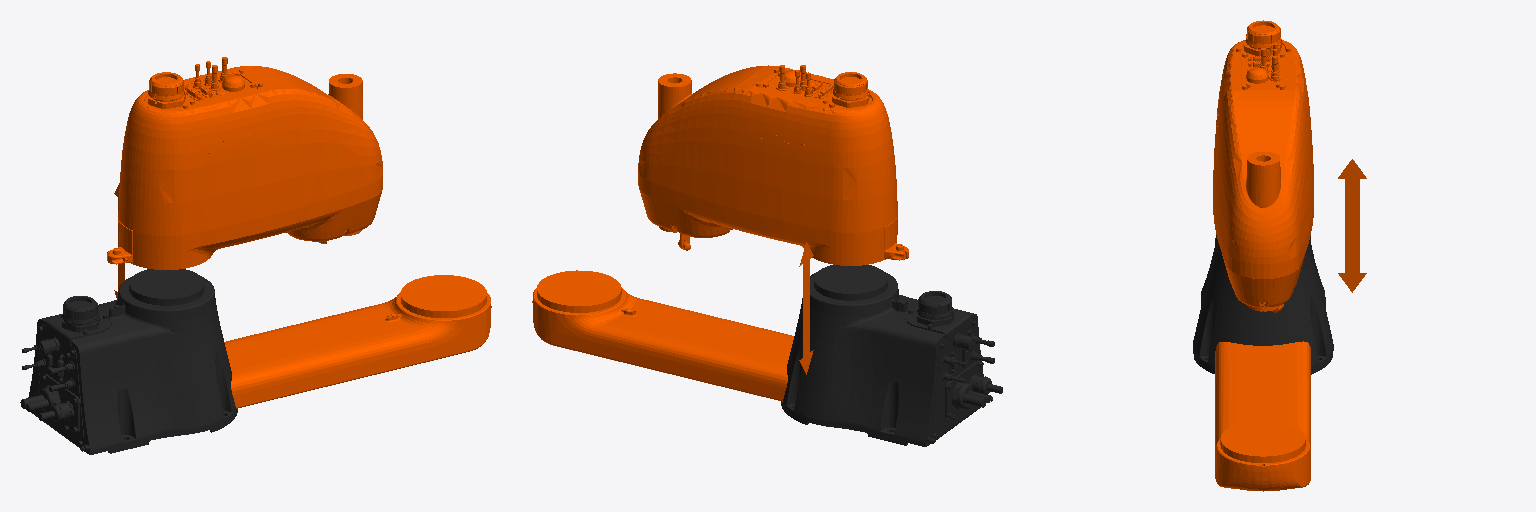
robot.urdf — kuka_kr6r700_sc_200:
<?xml version="1.0"?>
<robot name="kuka_kr6r700_sc_200">
  <material name="kuka_orange"><color rgba="1.00 0.40 0.00 1.0"/></material>
  <material name="kuka_dark_gray"><color rgba="0.20 0.20 0.20 1.0"/></material>

  <link name="base_link">
    <inertial>
      <origin xyz="-0.059497 -0.000606 0.076830" rpy="0 0 0"/>
      <mass value="10.667"/>
      <inertia ixx="0.052671" ixy="-0.000643" ixz="0.001430" iyy="0.082402" iyz="-0.000070" izz="0.075333"/>
    </inertial>
    <visual>
      <origin xyz="0 0 0" rpy="0 0 0"/>
      <geometry><mesh filename="meshes/visual/base_link.stl"/></geometry>
      <material name="kuka_dark_gray"/>
    </visual>
    <collision>
      <origin xyz="0 0 0" rpy="0 0 0"/>
      <geometry><mesh filename="meshes/visual/base_link.stl"/></geometry>
    </collision>
  </link>

  <link name="link_1">
    <inertial>
      <origin xyz="0.209912 -0.000001 0.031312" rpy="0 0 0"/>
      <mass value="10.030"/>
      <inertia ixx="0.021466" ixy="0.000009" ixz="-0.004328" iyy="0.123573" iyz="0.000000" izz="0.131508"/>
    </inertial>
    <visual>
      <origin xyz="0 0 0" rpy="0 0 0"/>
      <geometry><mesh filename="meshes/visual/link_1.stl"/></geometry>
      <material name="kuka_orange"/>
    </visual>
    <collision>
      <origin xyz="0 0 0" rpy="0 0 0"/>
      <geometry><mesh filename="meshes/visual/link_1.stl"/></geometry>
    </collision>
  </link>

  <link name="link_2">
    <inertial>
      <origin xyz="0.120291 0.000751 0.333840" rpy="0 0 0"/>
      <mass value="4.716"/>
      <inertia ixx="0.028704" ixy="-0.000027" ixz="0.005086" iyy="0.061214" iyz="0.000008" izz="0.048062"/>
    </inertial>
    <visual>
      <origin xyz="0 0 0" rpy="0 0 0"/>
      <geometry><mesh filename="meshes/visual/link_2.stl"/></geometry>
      <material name="kuka_orange"/>
    </visual>
    <collision>
      <origin xyz="0 0 0" rpy="0 0 0"/>
      <geometry><mesh filename="meshes/visual/link_2.stl"/></geometry>
    </collision>
  </link>

  <link name="link_3">
    <inertial>
      <origin xyz="-0.000005 0.120000 0.188996" rpy="0 0 0"/>
      <mass value="45.237"/>
      <inertia ixx="0.117863" ixy="0.000000" ixz="-0.000000" iyy="0.117646" iyz="0.000695" izz="0.045454"/>
    </inertial>
    <visual>
      <origin xyz="0 0 0" rpy="0 0 0"/>
      <geometry><mesh filename="meshes/visual/link_3.stl"/></geometry>
      <material name="kuka_orange"/>
    </visual>
    <collision>
      <origin xyz="0 0 0" rpy="0 0 0"/>
      <geometry><mesh filename="meshes/visual/link_3.stl"/></geometry>
    </collision>
  </link>

  <link name="link_4">
    <inertial>
      <origin xyz="0.000000 0.000000 0.000000" rpy="0 0 0"/>
      <mass value="0.461"/>
      <inertia ixx="0.000467" ixy="0.000000" ixz="0.000000" iyy="0.000467" iyz="0.000000" izz="0.000467"/>
    </inertial>
    <visual>
      <origin xyz="0 0 0" rpy="0 0 0"/>
      <geometry><mesh filename="meshes/visual/link_4.stl"/></geometry>
      <material name="kuka_dark_gray"/>
    </visual>
    <collision>
      <origin xyz="0 0 0" rpy="0 0 0"/>
      <geometry><mesh filename="meshes/visual/link_4.stl"/></geometry>
    </collision>
  </link>

  <link name="tool0"/>

  <joint name="joint_a1" type="revolute">
    <parent link="base_link"/>
    <child link="link_1"/>
    <origin xyz="0.000000 0.000000 0.000000" rpy="0 0 0"/>
    <axis xyz="0.0 0.0 1.0"/>
    <limit lower="-2.303835" upper="2.303835" effort="129.9" velocity="7.330383"/>
    <dynamics damping="5.0" friction="1.0"/>
  </joint>

  <joint name="joint_a2" type="revolute">
    <parent link="link_1"/>
    <child link="link_2"/>
    <origin xyz="0.000000 0.000000 0.000000" rpy="0 0 0"/>
    <axis xyz="0.0 0.0 1.0"/>
    <limit lower="-2.530727" upper="2.530727" effort="52.3" velocity="12.566371"/>
    <dynamics damping="5.0" friction="1.0"/>
  </joint>

  <joint name="joint_a3" type="prismatic">
    <parent link="link_2"/>
    <child link="link_3"/>
    <origin xyz="0.000000 0.000000 0.000000" rpy="0 0 0"/>
    <axis xyz="0.0 0.0 1.0"/>
    <limit lower="-0.200000" upper="0.001000" effort="333.3" velocity="2.000000"/>
    <dynamics damping="5.0" friction="1.0"/>
  </joint>

  <joint name="joint_a4" type="revolute">
    <parent link="link_3"/>
    <child link="link_4"/>
    <origin xyz="0.000000 0.000000 0.000000" rpy="0 0 0"/>
    <axis xyz="0.0 0.0 1.0"/>
    <limit lower="-6.195919" upper="6.195919" effort="133.3" velocity="34.906585"/>
    <dynamics damping="5.0" friction="1.0"/>
  </joint>

  <joint name="link_4-tool0" type="fixed">
    <parent link="link_4"/>
    <child link="tool0"/>
    <origin xyz="0.000000 0.000000 0.000000" rpy="0 1.57079632679 0"/>
  </joint>
</robot>

--- Render facts (derived) ---
3 views of the same robot in one strip: view 1: azimuth 30°, elevation 25°; view 2: azimuth 150°, elevation 25°; view 3: azimuth 270°, elevation 25° (orthographic).
Model kuka_kr6r700_sc_200 with 6 links and 5 joints (3 revolute, 1 prismatic, 1 fixed), rooted at base_link, posed all joints at 0.
Links seen in each view (by area): view 1: link_2, base_link, link_1; view 2: link_2, base_link, link_1, link_3; view 3: link_2, link_1, base_link, link_3.
Link boxes in pixels (<box>): link_2: <box>107,57,382,269</box>; base_link: <box>20,269,237,454</box>; link_1: <box>224,275,491,408</box>; link_2: <box>638,65,908,265</box>; base_link: <box>781,265,1002,446</box>; link_1: <box>532,270,793,401</box>; link_3: <box>799,242,813,374</box>; link_2: <box>1213,20,1313,312</box>; link_1: <box>1215,341,1310,491</box>; base_link: <box>1193,235,1333,374</box>; link_3: <box>1338,159,1366,292</box>.
Size in the robot's own frame: 0.7031 by 0.2348 by 0.4927 metres.
Meshes: 5 distinct files referenced, 4 mesh visuals loaded (4 binary STL); not drawn: 1 (reference not matched to a file when rendering).
